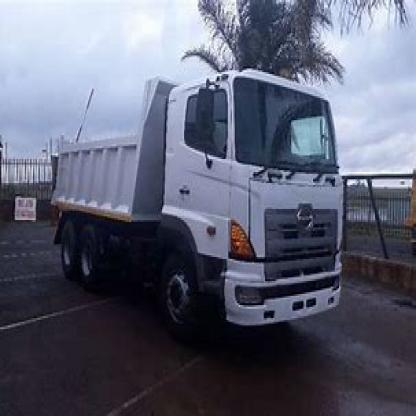dump_truck: (46, 47, 348, 338)
